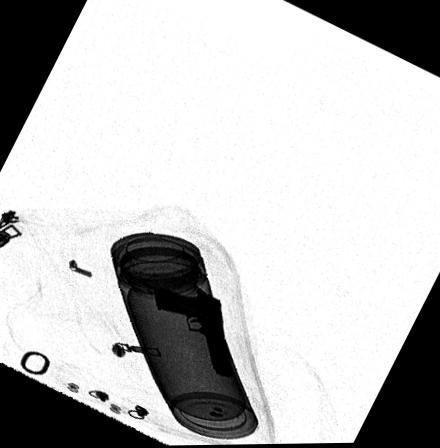Gun: (148, 287, 235, 379)
